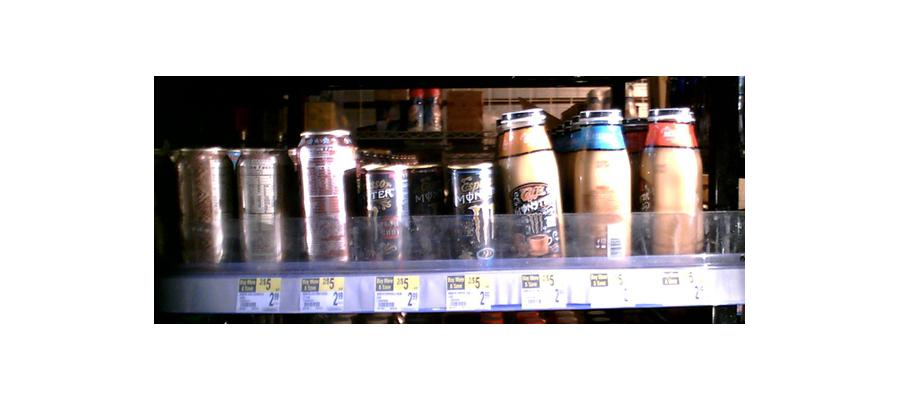bottle: (498, 106, 567, 265), (569, 102, 634, 267), (640, 104, 702, 261), (292, 125, 356, 260), (170, 146, 229, 267), (233, 141, 288, 265), (442, 143, 496, 263), (362, 150, 412, 267)
